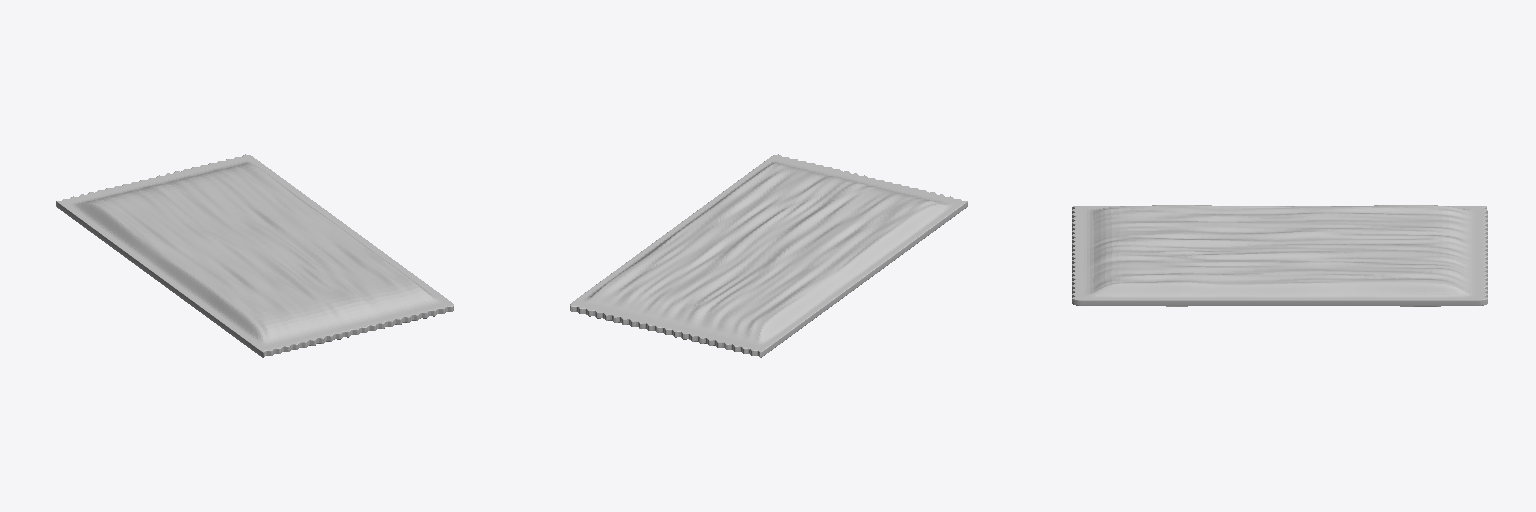
Rendered from fertilizer.obj.
3 views of the same model, side by side, from view 1: azimuth 30°, elevation 25°; view 2: azimuth 150°, elevation 25°; view 3: azimuth 270°, elevation 25° (orthographic).
Visible parts, largest first — view 1: 17390_Condiment_packet_v1; view 2: 17390_Condiment_packet_v1; view 3: 17390_Condiment_packet_v1.
Part boxes in pixels (left/top/right/bottom): 17390_Condiment_packet_v1: left=56, top=154, right=453, bottom=357; 17390_Condiment_packet_v1: left=570, top=154, right=967, bottom=357; 17390_Condiment_packet_v1: left=1072, top=205, right=1487, bottom=306.
Bounding box in the file's own units: 7.85 × 1 × 14.61.